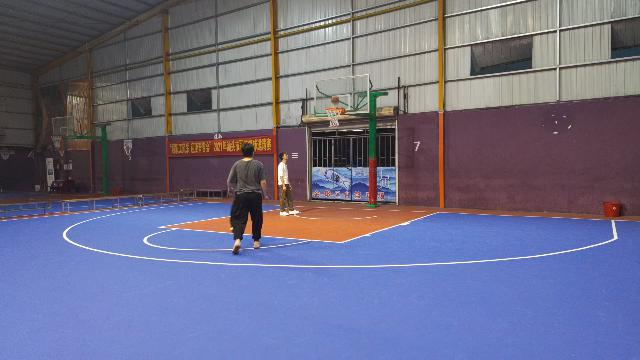ball: (330, 95, 340, 105)
basket: (324, 107, 344, 127)
